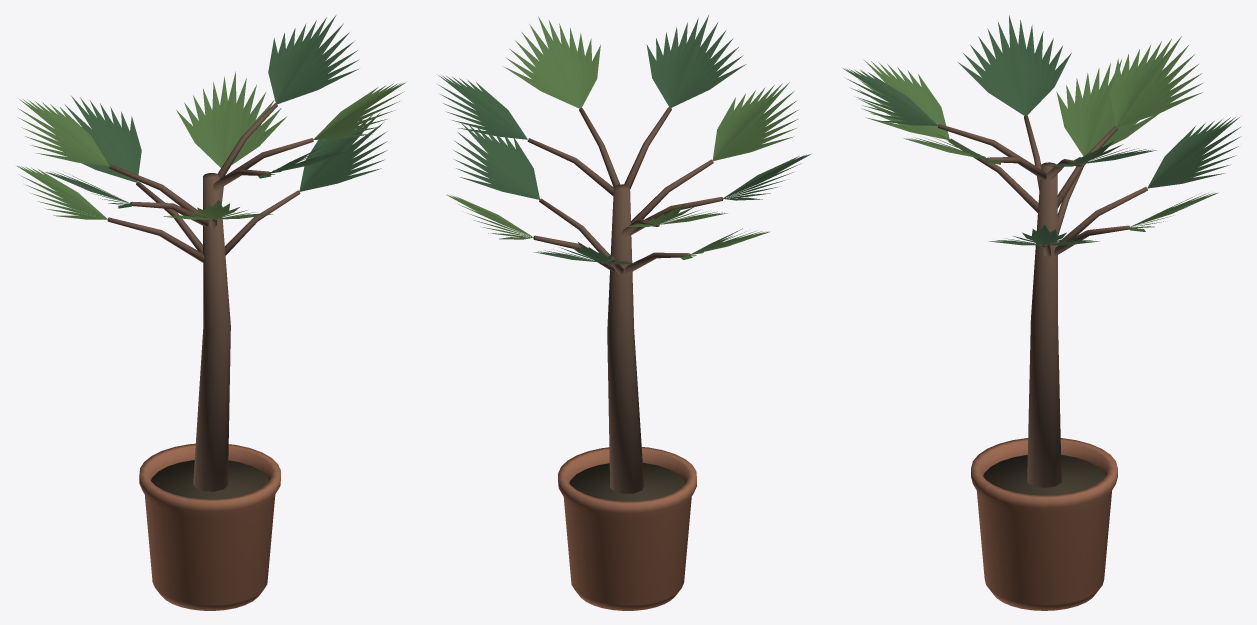
File: rpg-mansion-garden-fan-palm-planter-01.glb
The picture shows the model from 3 angles, left to right: view 1: azimuth 30°, elevation 25°; view 2: azimuth 150°, elevation 25°; view 3: azimuth 270°, elevation 25°; orthographic projection. The views are drawn at different scales.
Parts seen in each view (by area): view 1: rpg-mansion-garden-fan-palm-planter-01; view 2: rpg-mansion-garden-fan-palm-planter-01; view 3: rpg-mansion-garden-fan-palm-planter-01.
Boxes of the visible parts, x1=… form: rpg-mansion-garden-fan-palm-planter-01: x1=17, y1=15, x2=405, y2=610; rpg-mansion-garden-fan-palm-planter-01: x1=437, y1=15, x2=810, y2=610; rpg-mansion-garden-fan-palm-planter-01: x1=842, y1=15, x2=1241, y2=610.
Size of the model in its own units: 1.22 by 1.76 by 1.21.
